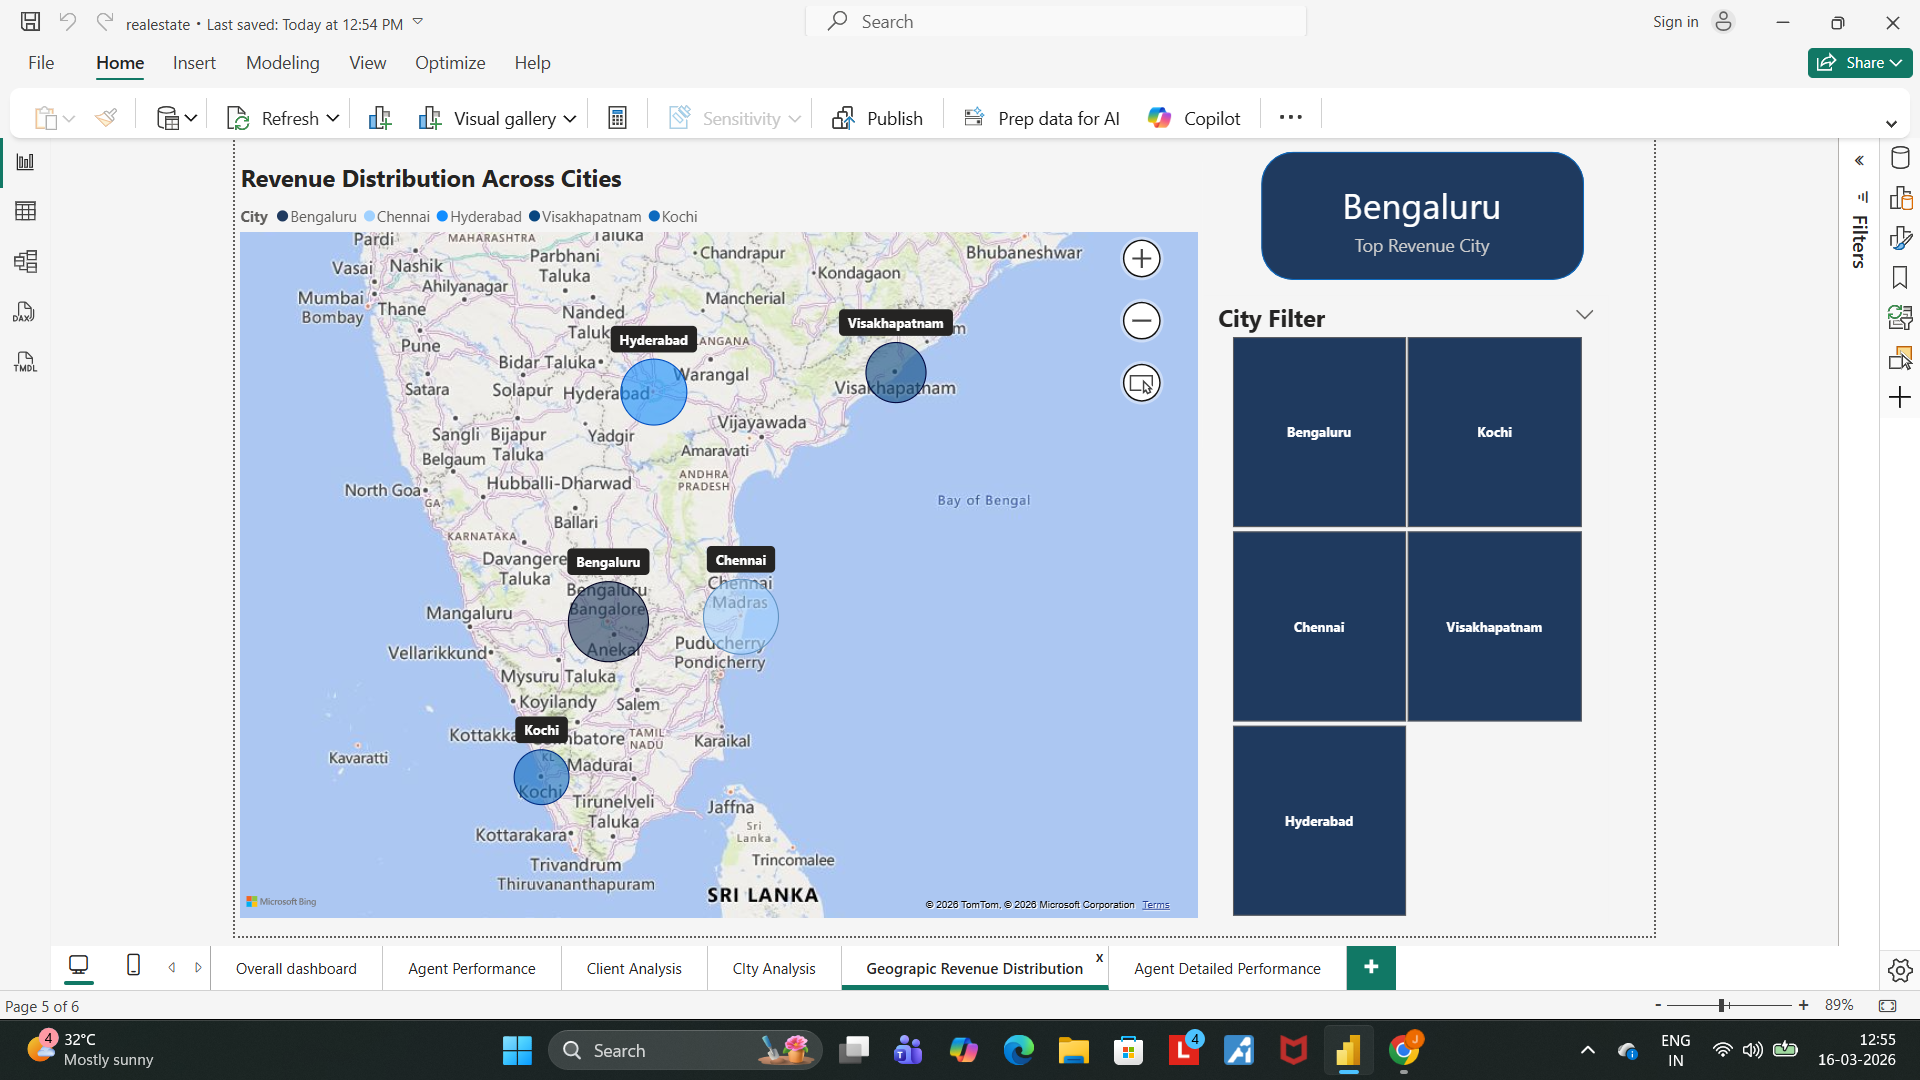

The page's visual inventory and layout, read from the dashboard file:
{"tool":"powerbi","page":{"name":"Geograpic Revenue Distribution","canvas":[1280,720],"ordinal":4},"visuals":[{"type":"map","title":"Revenue Distribution Across Cities","fields":{"Category":["realestate properties.City"],"Series":["realestate properties.City"],"Size":["Agent Commission Rate.Total Revenue"]},"box":[0,21.6,872.9,686.8],"z":0},{"type":"slicer","fields":{"Values":["realestate properties.City"]},"box":[873.3,141.8,364.5,566],"z":1000},{"type":"shape","box":[925.5,12.4,291.1,115.7],"z":2000},{"type":"card","fields":{"Values":["measure.Top Revenue City"]},"box":[916.8,3.7,308.5,138.1],"z":3000}]}

Visuals, with their boxes on the page's 1280x720 design canvas (x1, y1, x2, y2). These are canvas units, not pixel positions in the 1920x1080 screenshot, which may show the page scaled, cropped or inside an application window:
"Revenue Distribution Across Cities" map: [0, 22, 873, 708]
slicer - realestate properties.City: [873, 142, 1238, 708]
shape: [926, 12, 1217, 128]
card - measure.Top Revenue City: [917, 4, 1225, 142]
